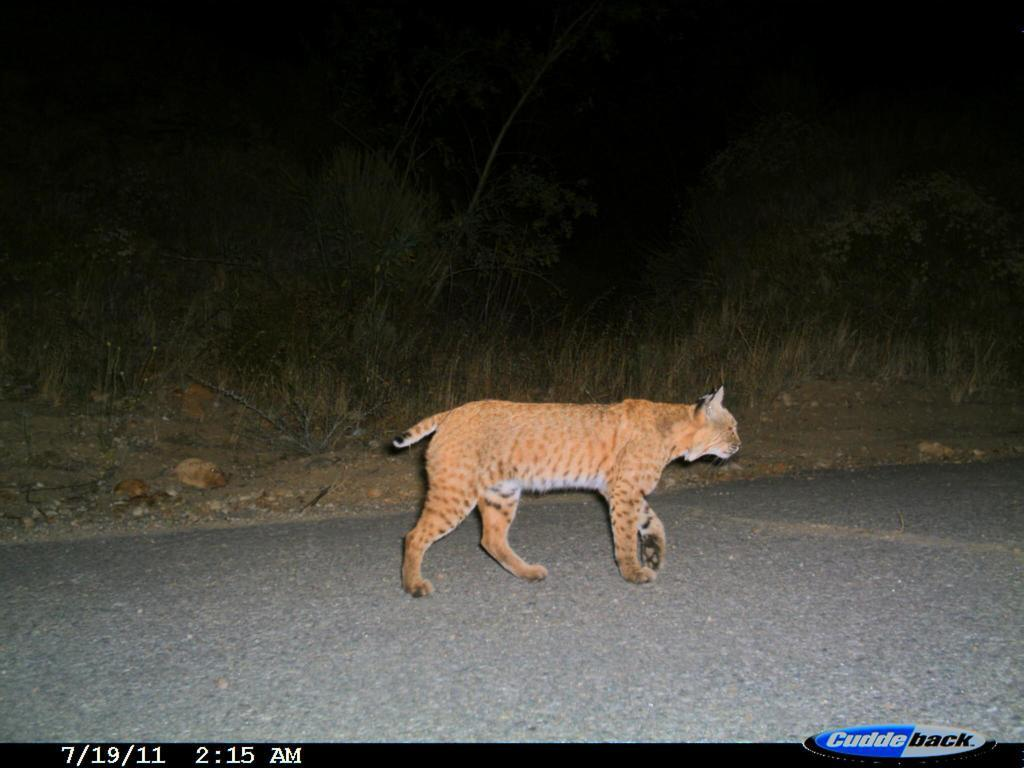bobcat: (385, 382, 756, 602)
